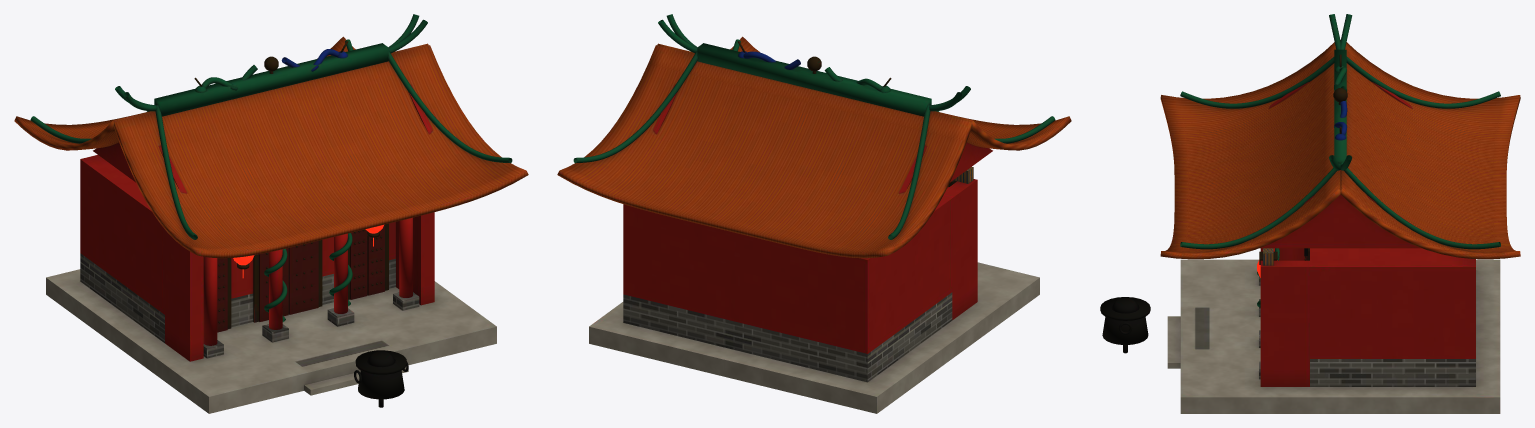
Rendered from temple.glb.
The picture shows the model from 3 angles, left to right: view 1: azimuth 30°, elevation 25°; view 2: azimuth 150°, elevation 25°; view 3: azimuth 270°, elevation 25°; orthographic projection. The views are drawn at different scales.
Parts seen in each view (by area): view 1: temple; view 2: temple; view 3: temple.
Boxes of the visible parts, box(x1,y1,x2,y2) form: temple: box(14, 14, 528, 413); temple: box(557, 14, 1071, 413); temple: box(1100, 14, 1520, 413).
Bounding box in the file's own units: 12.17 × 9.35 × 13.68.
1 material, 1 textured.
